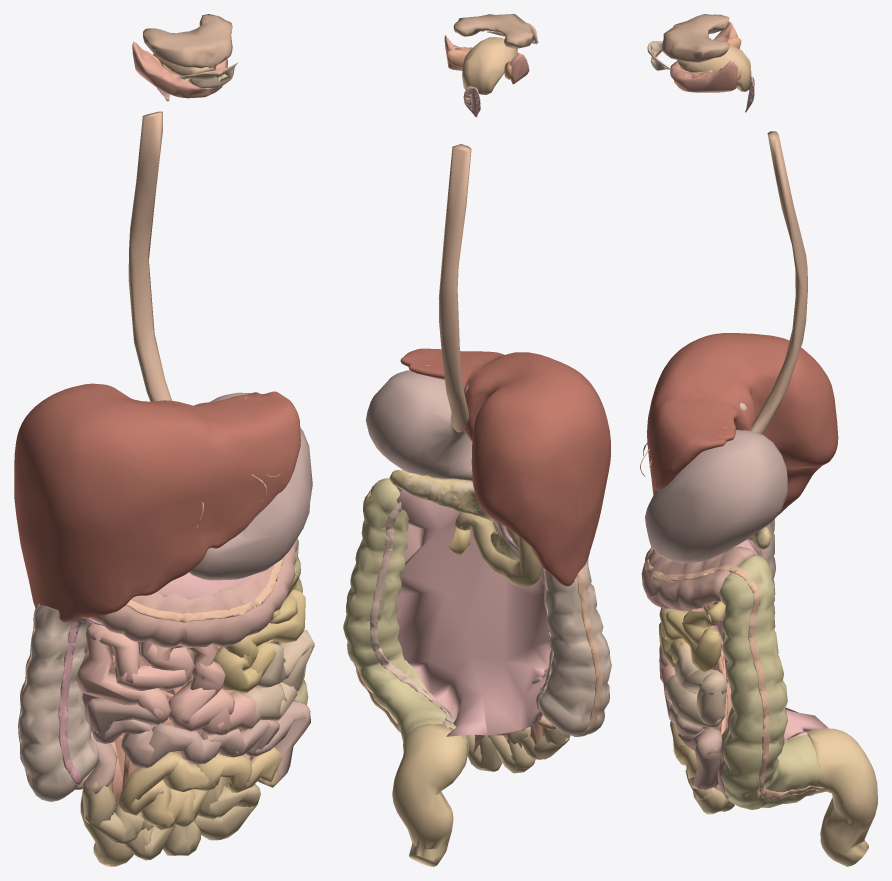
Rendered from body-digestive.lod2.glb.
3 renders of one model, left to right at view 1: azimuth 30°, elevation 25°; view 2: azimuth 150°, elevation 25°; view 3: azimuth 270°, elevation 25°, orthographic. The views are drawn at different scales.
Visible parts, largest first — view 1: liver, distal-part-of-jejunum, ascending-colon, proximal-part-of-ileum, transverse-colon, middle-part-of-ileum, distal-part-of-ileum, stomach, esophagus, proximal-part-of-jejunum, gingiva-of-upper-jaw, middle-part-of-jejunum (+8 smaller); view 2: liver, transverse-mesocolon, descending-colon, stomach, ascending-colon, rectum, esophagus, distal-part-of-ileum, duodenum, taenia-mesocolica, tongue, pancreas (+4 smaller); view 3: liver, descending-colon, stomach, rectum, esophagus, transverse-colon, middle-part-of-jejunum, proximal-part-of-jejunum, taenia-omentalis, gingiva-of-upper-jaw, proximal-part-of-ileum, gingiva-of-lower-jaw (+5 smaller).
Part boxes in pixels (x1,y1,x2,y2): liver: (14, 383, 300, 622); distal-part-of-jejunum: (76, 622, 257, 735); ascending-colon: (19, 604, 98, 801); proximal-part-of-ileum: (87, 698, 310, 778); transverse-colon: (89, 539, 297, 647); middle-part-of-ileum: (117, 747, 282, 829); distal-part-of-ileum: (82, 777, 260, 860); stomach: (189, 392, 312, 580); esophagus: (128, 111, 172, 401); proximal-part-of-jejunum: (214, 567, 305, 692); gingiva-of-upper-jaw: (143, 14, 232, 68); middle-part-of-jejunum: (240, 629, 314, 729); liver: (400, 348, 610, 586); transverse-mesocolon: (396, 489, 551, 736); descending-colon: (343, 478, 468, 755); stomach: (365, 370, 472, 480); ascending-colon: (538, 558, 611, 736); rectum: (392, 723, 468, 866); esophagus: (438, 144, 471, 432); distal-part-of-ileum: (467, 727, 570, 773); duodenum: (454, 512, 542, 587); taenia-mesocolica: (370, 502, 553, 727); tongue: (462, 37, 517, 94); pancreas: (389, 470, 519, 560); liver: (647, 333, 838, 514); descending-colon: (716, 555, 820, 809); stomach: (645, 430, 787, 563); rectum: (806, 728, 877, 866); esophagus: (750, 131, 807, 434); transverse-colon: (641, 546, 755, 610); middle-part-of-jejunum: (665, 642, 727, 727); proximal-part-of-jejunum: (659, 601, 725, 672); taenia-omentalis: (643, 547, 824, 799); gingiva-of-upper-jaw: (661, 14, 729, 62); proximal-part-of-ileum: (665, 696, 721, 790); gingiva-of-lower-jaw: (670, 22, 737, 92).
Size of the model in its own units: 0.244 by 0.7224 by 0.1866.
